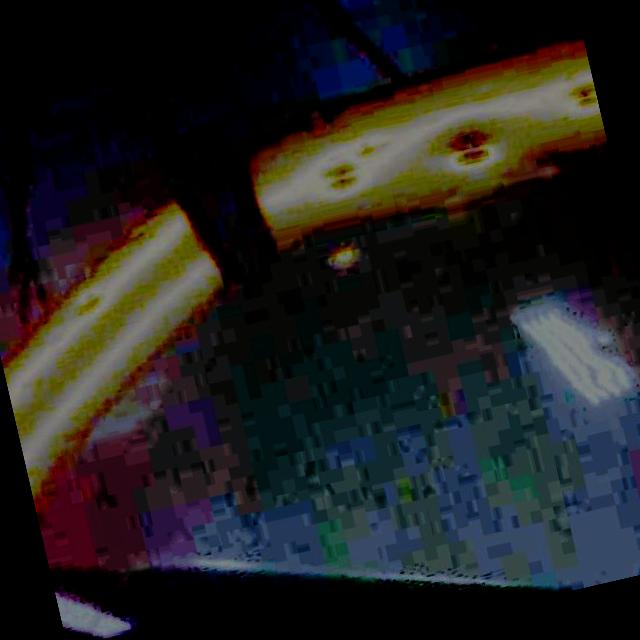dent: (446, 121, 496, 170), (322, 159, 360, 192), (574, 80, 598, 106), (75, 294, 101, 316), (358, 144, 378, 160)
